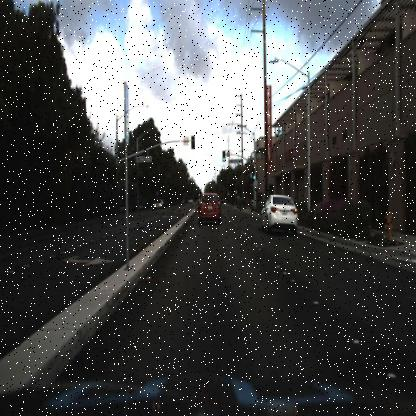car: (257, 190, 302, 237), (190, 188, 230, 233), (152, 196, 167, 212), (154, 194, 164, 212)
trafficLight-Green: (218, 147, 228, 167), (221, 148, 227, 164), (251, 170, 258, 182), (253, 172, 257, 182)
